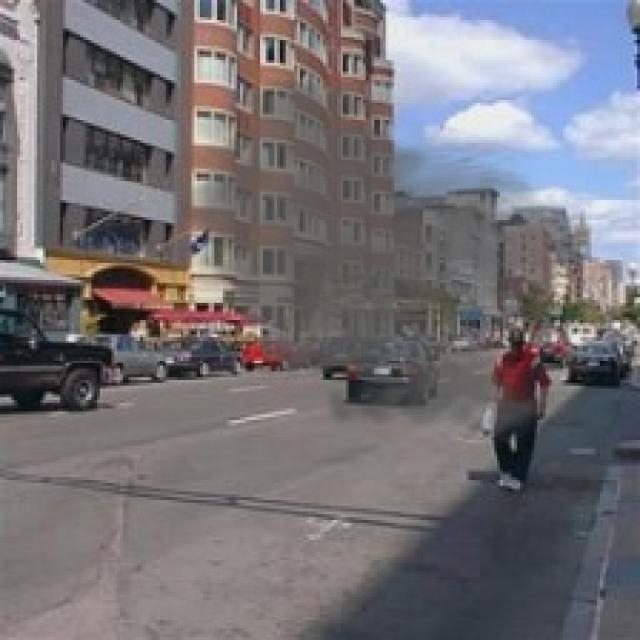Smoke: (160, 71, 586, 448)
